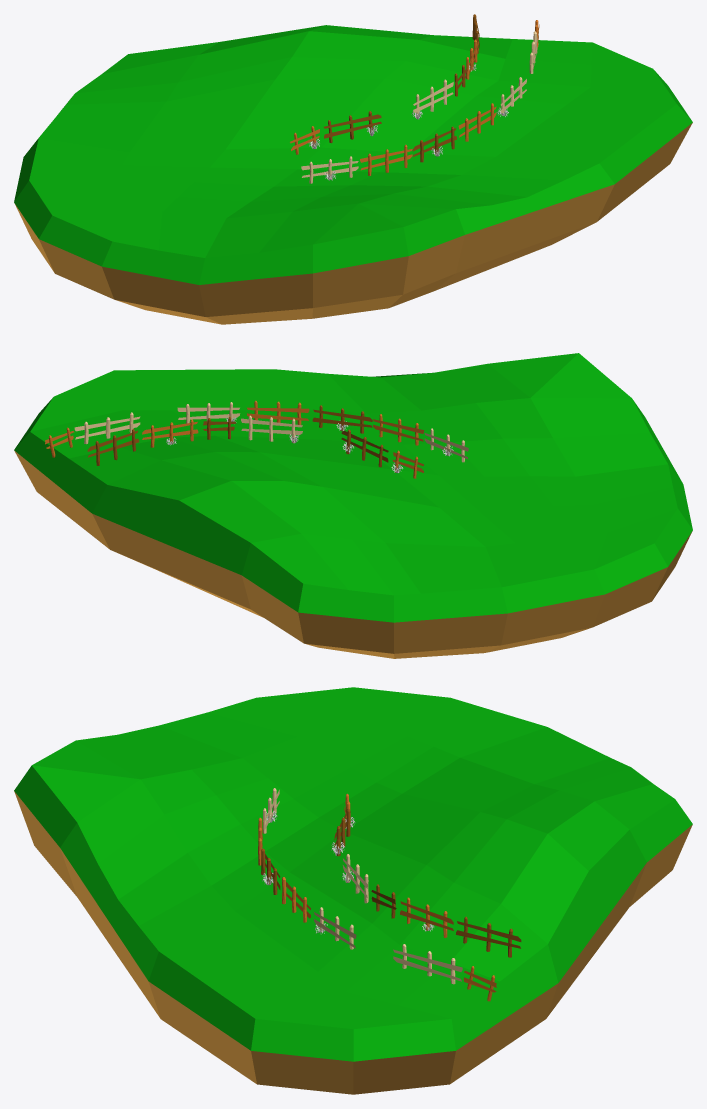
File: StartingIsland.fbx
3 renders of one model, top to bottom at view 1: azimuth 30°, elevation 25°; view 2: azimuth 150°, elevation 25°; view 3: azimuth 270°, elevation 25°, orthographic. The views are drawn at different scales.
Parts seen in each view (by area): view 1: Erde, Cube.007, Cube.001, Cube.005, Cube.014, Cube.008; view 2: Erde, Cube.017, Cube.008, Cube.016, Cube.014, Cube.012, Cube.009, Cube.010, Cube.005, Cube.007, Cube.001; view 3: Erde, Cube.017, Cube.010, Cube.009.
Boxes of the visible parts, bbox=[...] form: Erde: bbox=[14, 25, 692, 324]; Cube.007: bbox=[323, 111, 381, 143]; Cube.001: bbox=[301, 156, 358, 183]; Cube.005: bbox=[360, 144, 412, 175]; Cube.014: bbox=[412, 126, 456, 162]; Cube.008: bbox=[413, 79, 453, 117]; Erde: bbox=[14, 353, 692, 658]; Cube.017: bbox=[74, 412, 140, 444]; Cube.008: bbox=[241, 415, 302, 443]; Cube.016: bbox=[247, 400, 309, 424]; Cube.014: bbox=[312, 405, 372, 433]; Cube.012: bbox=[177, 402, 240, 423]; Cube.009: bbox=[142, 419, 198, 447]; Cube.010: bbox=[87, 429, 139, 465]; Cube.005: bbox=[373, 414, 424, 445]; Cube.007: bbox=[341, 429, 388, 467]; Cube.001: bbox=[424, 428, 468, 462]; Erde: bbox=[14, 687, 692, 1094]; Cube.017: bbox=[393, 944, 462, 984]; Cube.010: bbox=[456, 916, 521, 957]; Cube.009: bbox=[400, 897, 453, 937].
Size of the model in its own units: 2772 by 567 by 2219.
